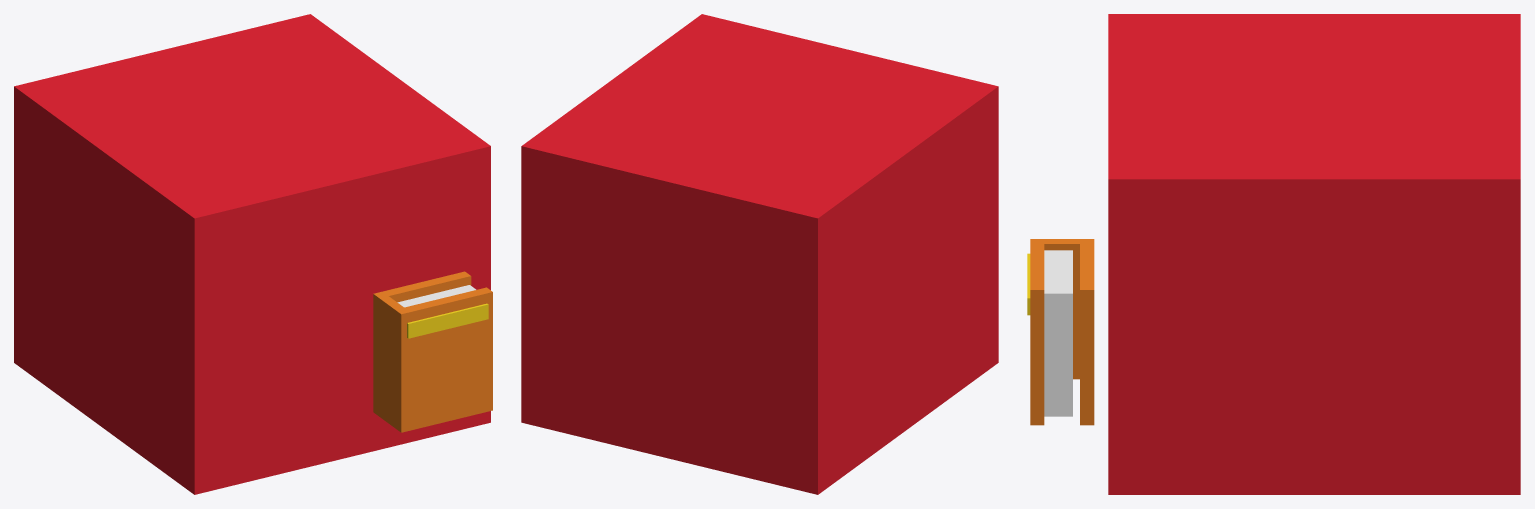
Rendered from tinker.obj.
3 views of the same model, side by side, from view 1: azimuth 30°, elevation 25°; view 2: azimuth 150°, elevation 25°; view 3: azimuth 270°, elevation 25° (orthographic). The views are drawn at different scales.
Visible parts, largest first — view 1: group_0_15277357, group_0_16089887, group_0_16768282, group_0_16448250; view 2: group_0_15277357; view 3: group_0_15277357, group_0_16089887, group_0_16448250.
Part boxes in pixels (x1,y1,x2,y2): group_0_15277357: [14, 14, 490, 494]; group_0_16089887: [373, 271, 492, 432]; group_0_16768282: [407, 303, 488, 338]; group_0_16448250: [397, 285, 476, 307]; group_0_15277357: [521, 14, 998, 494]; group_0_15277357: [1108, 14, 1520, 494]; group_0_16089887: [1030, 239, 1094, 425]; group_0_16448250: [1044, 250, 1072, 416].
Bounding box in the file's own units: 55 × 54 × 69.42.
